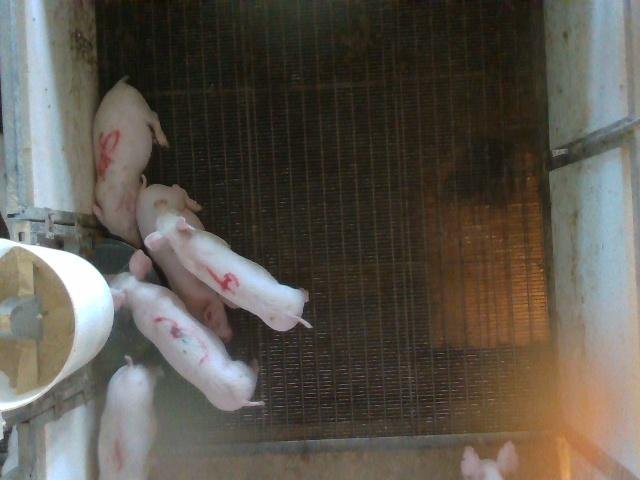pig-1: (98, 358, 156, 478)
pig-3: (106, 250, 259, 410)
pig-4: (144, 199, 311, 331)
pig-5: (92, 78, 169, 247)
